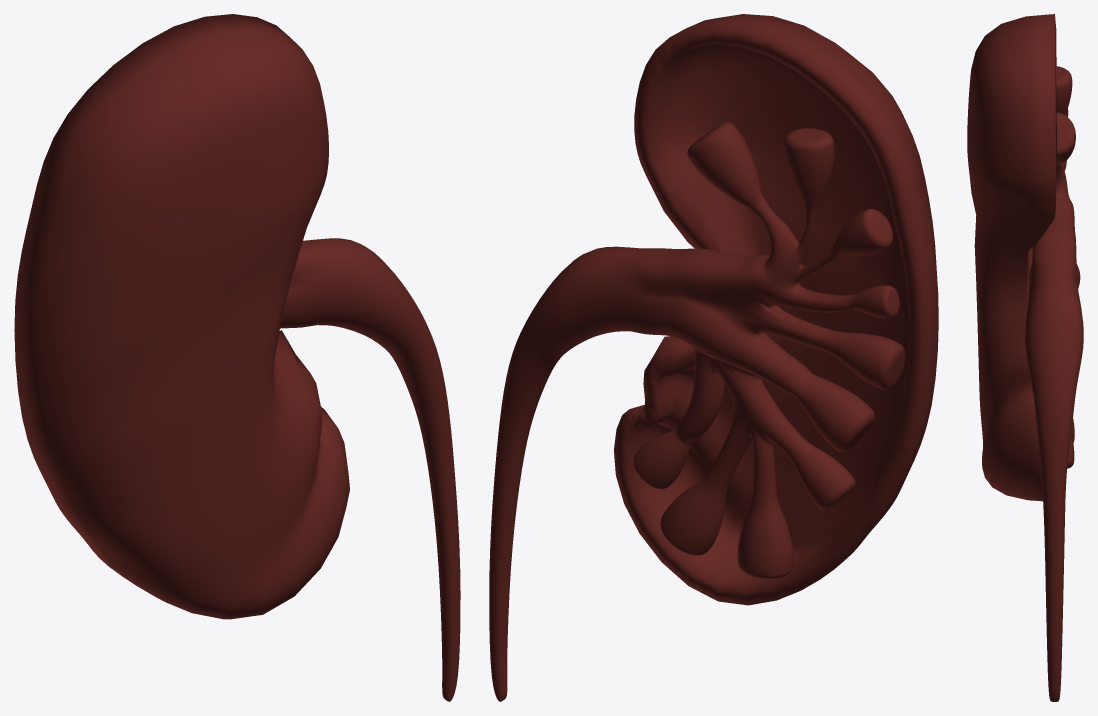
The model's file is CortexAndRenal.fbx.
3 renders of one model, left to right at view 1: azimuth 30°, elevation 25°; view 2: azimuth 150°, elevation 25°; view 3: azimuth 270°, elevation 25°, orthographic. The views are drawn at different scales.
Parts seen in each view (by area): view 1: Cortex; view 2: Cortex; view 3: Cortex.
Boxes of the visible parts, box(x1,y1,x2,y2) form: Cortex: box(14, 14, 460, 701); Cortex: box(489, 14, 938, 701); Cortex: box(967, 14, 1083, 701).
Size of the model in its own units: 265 by 423 by 77.02.
